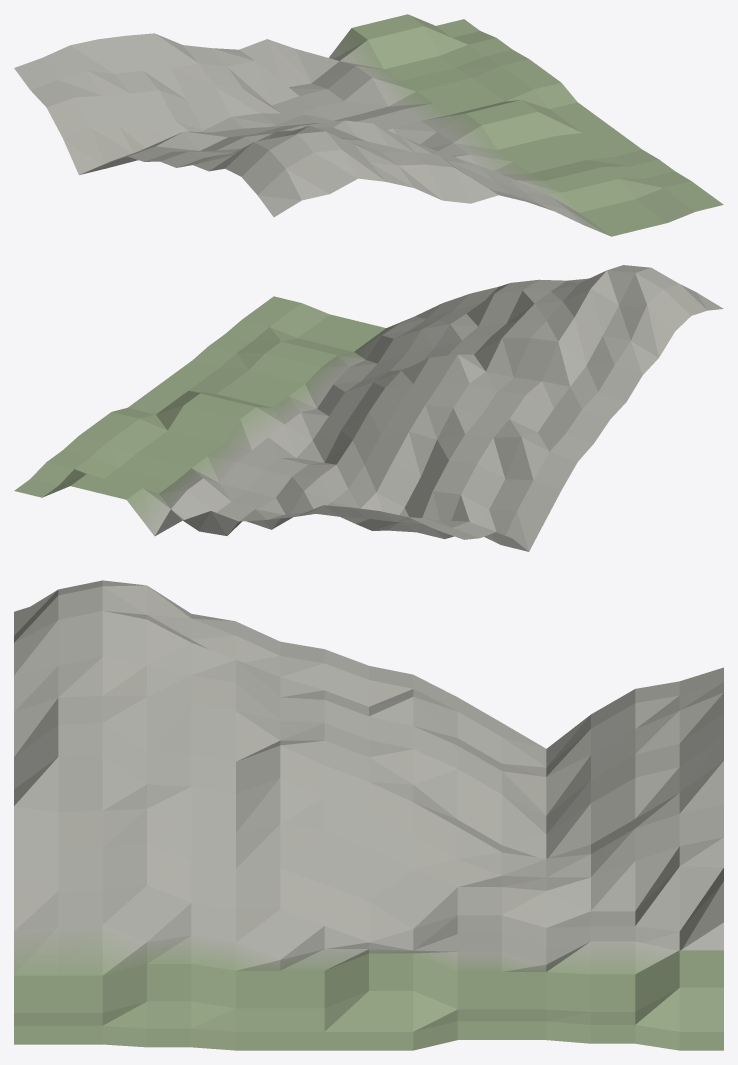
3 views of the same model, one above another, from view 1: azimuth 30°, elevation 25°; view 2: azimuth 150°, elevation 25°; view 3: azimuth 270°, elevation 25° (orthographic). The views are drawn at different scales.
Size of the model in its own units: 32 by 10.83 by 32.
